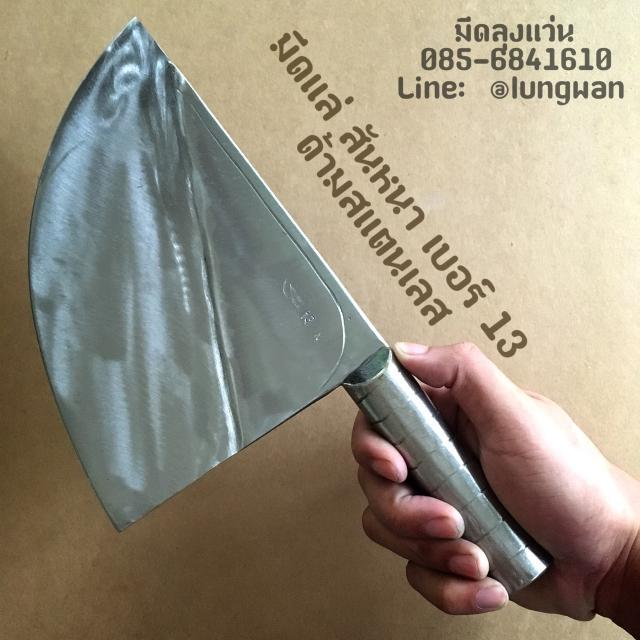cleaver: (26, 20, 628, 633)
